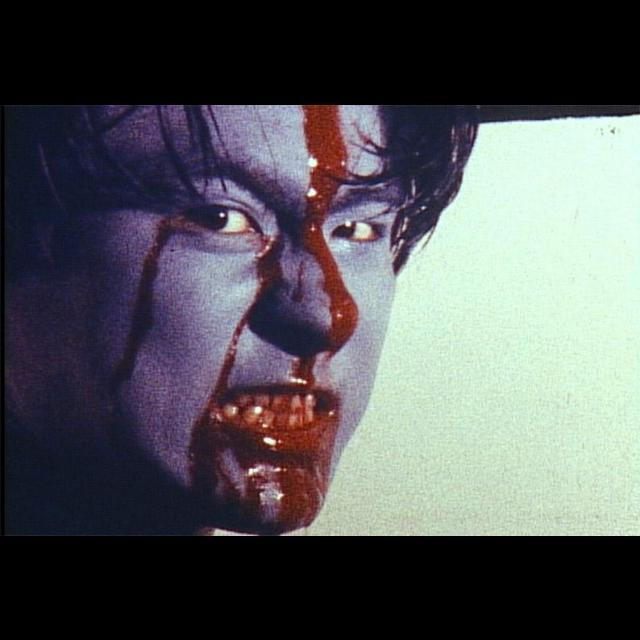blood: (111, 104, 359, 532)
